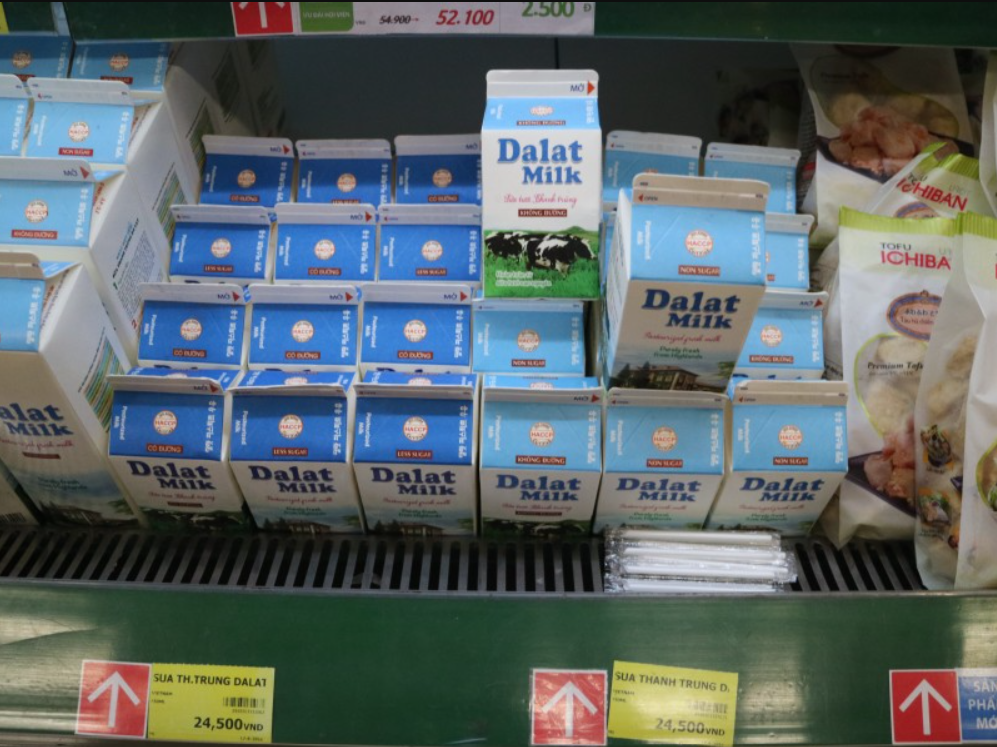dalatmilk: (639, 282, 742, 314), (491, 133, 587, 165), (125, 457, 212, 481), (246, 461, 336, 484), (494, 469, 584, 492), (368, 465, 459, 485), (616, 473, 702, 494), (739, 475, 824, 494)
